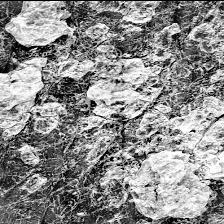Non-Cancerous Skin Condition: (78, 42, 224, 216), (0, 58, 46, 134)
